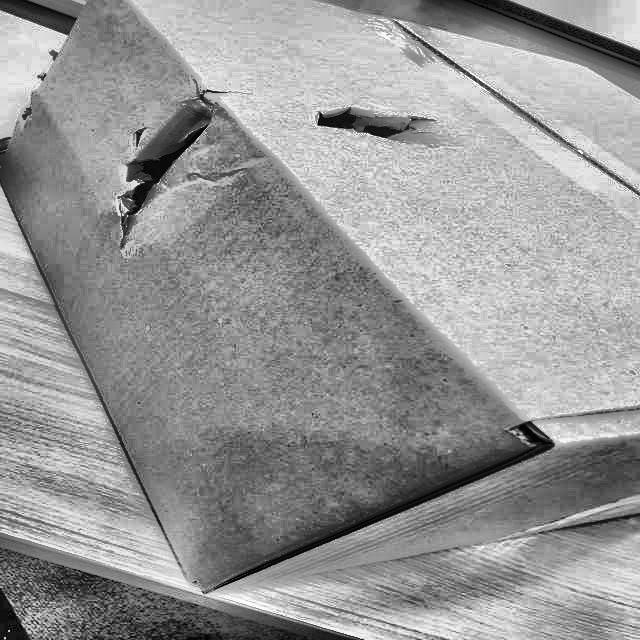box: (0, 0, 639, 607)
hole: (120, 111, 220, 229), (303, 108, 447, 145)
